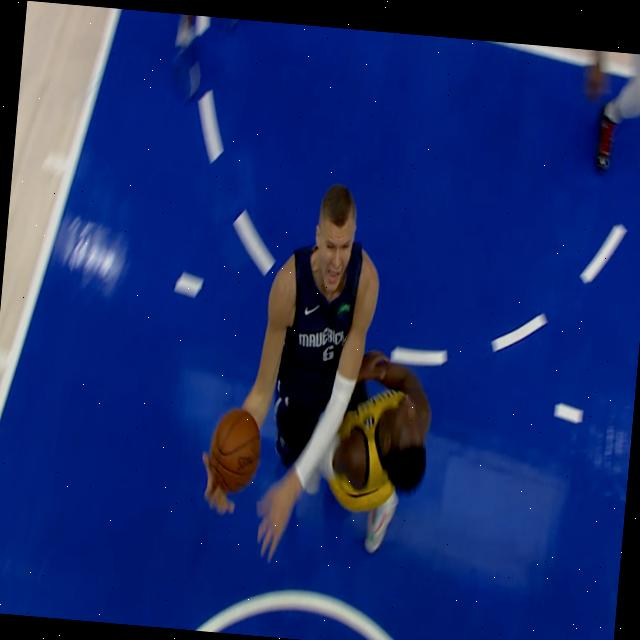foul: (120, 124, 490, 639)
